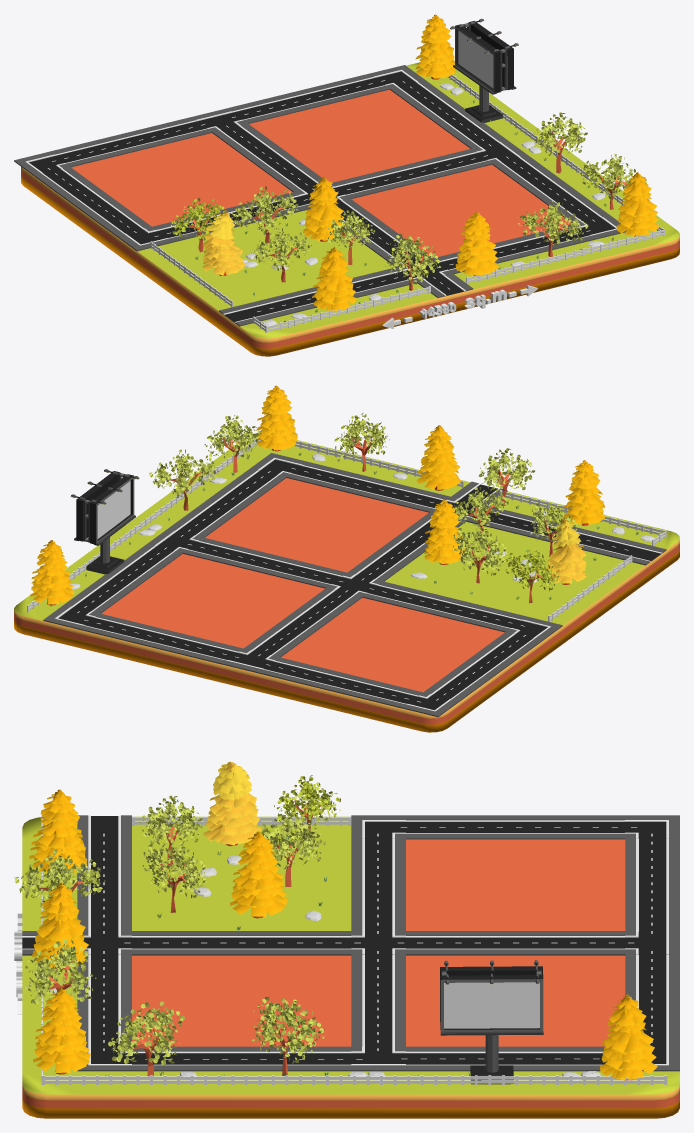
File: VillaBB.glb
3 views of the same model, one above another, from view 1: azimuth 30°, elevation 25°; view 2: azimuth 150°, elevation 25°; view 3: azimuth 270°, elevation 25° (orthographic). The views are drawn at different scales.
Visible parts, largest first — view 1: 3.002, Billboar.001, 1.083, 1.043, 1.045, 1.056, 1.046, 1.081, 1.054, 1.051, Cube.227, 1.050 (+25 smaller); view 2: 3.002, Billboar.001, 1.043, 1.083, 1.045, 1.044, 1.050, 1.046, 1.051, 1.054, 1.081, 1.056 (+26 smaller); view 3: 3.002, Billboar.001, 1.056, 1.057, 1.054, 1.046, Cube.227, 1.043, 1.044, 1.045, 1.051, 1.081 (+25 smaller).
Part boxes in pixels (x1,y1,x2,y2): 3.002: (21,62,679,356); Billboar.001: (450,18,518,122); 1.083: (227,73,389,123); 1.043: (50,117,211,167); 1.045: (331,148,492,198); 1.056: (219,267,417,326); 1.046: (34,166,151,236); 1.081: (390,80,506,148); 1.054: (212,123,321,192); 1.051: (492,155,609,222); Cube.227: (448,74,664,277); 1.050: (432,225,594,273); 3.002: (14,433,679,732); Billboar.001: (70,469,139,574); 1.043: (258,657,422,708); 1.083: (79,613,243,664); 1.045: (183,537,346,588); 1.044: (362,581,526,632); 1.050: (286,461,450,512); 1.046: (424,631,541,701); 1.051: (168,468,286,537); 1.054: (244,588,362,657); 1.081: (64,544,182,613); 1.056: (466,506,666,565); 3.002: (14,816,679,1118); Billboar.001: (440,960,543,1084); 1.056: (77,815,131,931); 1.057: (132,931,351,955); 1.054: (406,931,625,955); 1.046: (406,815,625,839); Cube.227: (41,965,667,1084); 1.043: (625,838,679,931); 1.044: (351,838,405,931); 1.045: (351,954,405,1047); 1.051: (132,1046,351,1071); 1.081: (406,1046,607,1071).
Bounding box in the file's own units: 12.04 × 2.68 × 12.15.
1 material, 1 textured.
